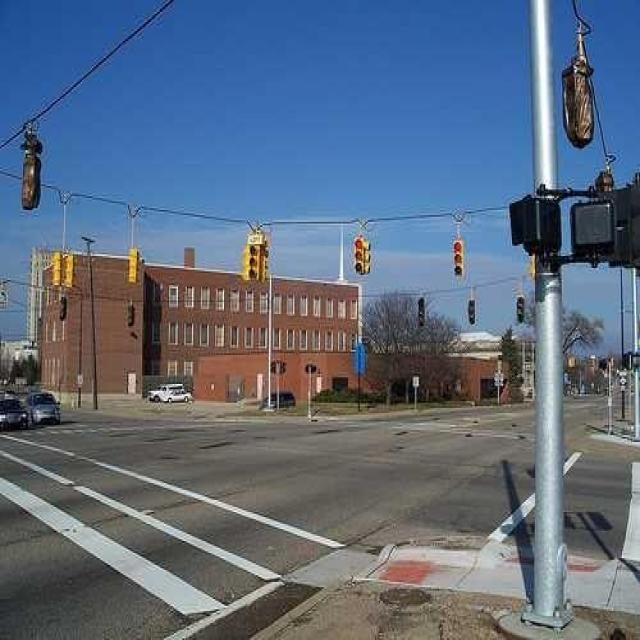Traffic Light -Red-: (352, 234, 371, 276), (453, 237, 465, 278)
